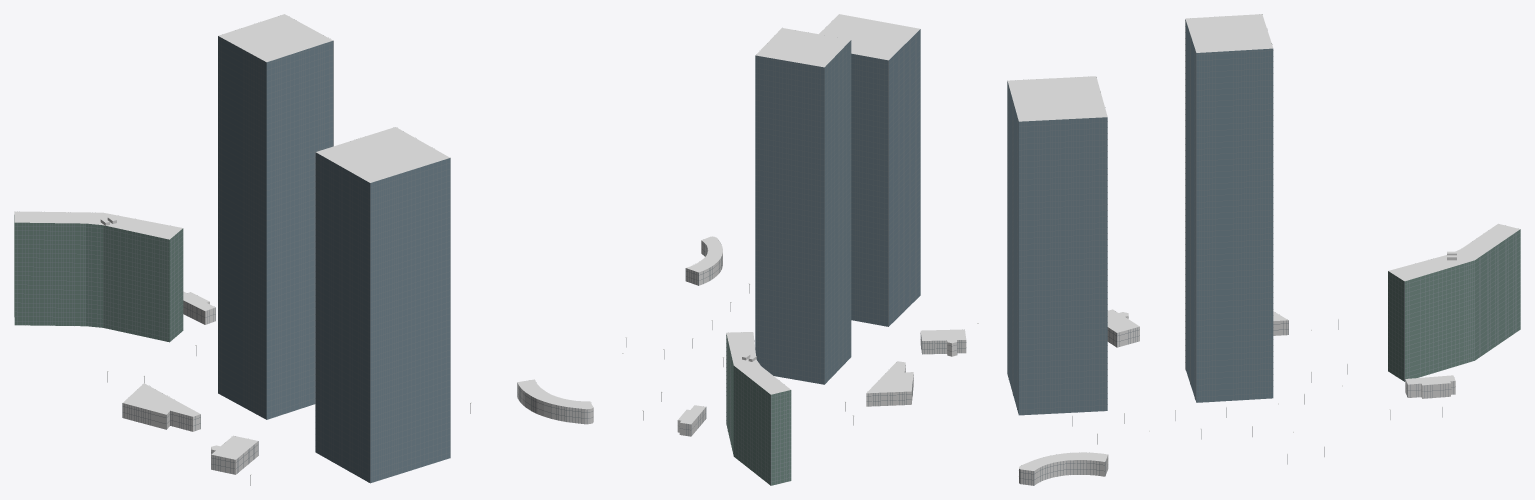
The picture shows the model from 3 angles, left to right: view 1: azimuth 30°, elevation 25°; view 2: azimuth 150°, elevation 25°; view 3: azimuth 270°, elevation 25°; orthographic projection. The views are drawn at different scales.
Parts seen in each view (by area): view 1: 1_-3_超高层蓝灰幕墙, 1_-3_城市金属细框, 1_-3_v02 绿灰幕墙, 1_-3_v02 深灰屋面, 1_-3_v02 铝合金幕墙框, 1_-3_v02 米白石材; view 2: 1_-3_超高层蓝灰幕墙, 1_-3_城市金属细框, 1_-3_v02 深灰屋面, 1_-3_v02 绿灰幕墙, 1_-3_v02 铝合金幕墙框, 1_-3_v02 米白石材; view 3: 1_-3_超高层蓝灰幕墙, 1_-3_城市金属细框, 1_-3_v02 绿灰幕墙, 1_-3_v02 深灰屋面, 1_-3_v02 铝合金幕墙框, 1_-3_v02 米白石材.
Part boxes in pixels (left/top/right/bottom): 1_-3_超高层蓝灰幕墙: left=218, top=36, right=450, bottom=483; 1_-3_城市金属细框: left=122, top=37, right=592, bottom=482; 1_-3_v02 绿灰幕墙: left=14, top=215, right=183, bottom=342; 1_-3_v02 深灰屋面: left=14, top=14, right=593, bottom=459; 1_-3_v02 铝合金幕墙框: left=15, top=223, right=215, bottom=341; 1_-3_v02 米白石材: left=122, top=300, right=593, bottom=474; 1_-3_超高层蓝灰幕墙: left=755, top=29, right=920, bottom=384; 1_-3_城市金属细框: left=685, top=34, right=966, bottom=406; 1_-3_v02 深灰屋面: left=678, top=14, right=966, bottom=424; 1_-3_v02 绿灰幕墙: left=726, top=334, right=791, bottom=485; 1_-3_v02 铝合金幕墙框: left=679, top=340, right=790, bottom=485; 1_-3_v02 米白石材: left=677, top=240, right=966, bottom=436; 1_-3_超高层蓝灰幕墙: left=1007, top=19, right=1273, bottom=415; 1_-3_城市金属细框: left=1008, top=14, right=1288, bottom=485; 1_-3_v02 绿灰幕墙: left=1388, top=229, right=1520, bottom=381; 1_-3_v02 深灰屋面: left=1007, top=14, right=1520, bottom=470; 1_-3_v02 铝合金幕墙框: left=1388, top=232, right=1520, bottom=398; 1_-3_v02 米白石材: left=1019, top=316, right=1455, bottom=485.
Size of the model in its own units: 245 by 237 by 315.
